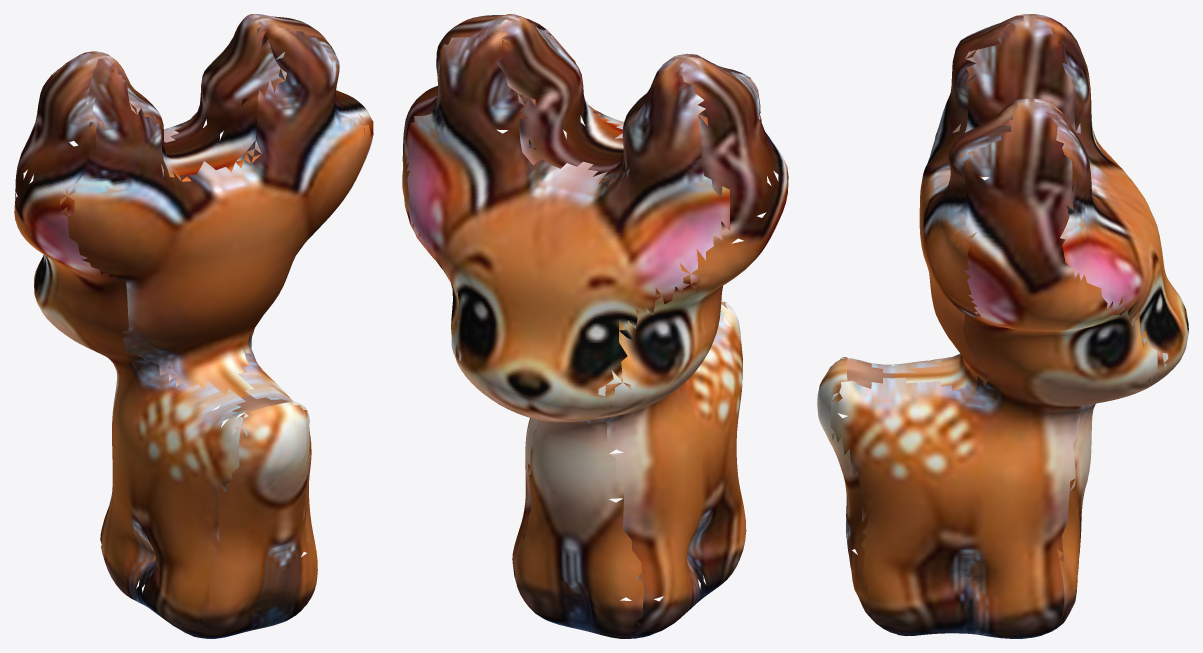
Rendered from Cerf.glb.
The picture shows the model from 3 angles, left to right: view 1: azimuth 30°, elevation 25°; view 2: azimuth 150°, elevation 25°; view 3: azimuth 270°, elevation 25°; orthographic projection. The views are drawn at different scales.
Visible parts, largest first — view 1: Cerf; view 2: Cerf; view 3: Cerf.
Boxes of the visible parts, x1,y1,x2,y2 form: Cerf: (14, 14, 373, 638); Cerf: (402, 14, 788, 638); Cerf: (817, 14, 1188, 638).
Bounding box in the file's own units: 2.66 × 4.1 × 2.47.
Materials: 1 (1 with a texture image).
